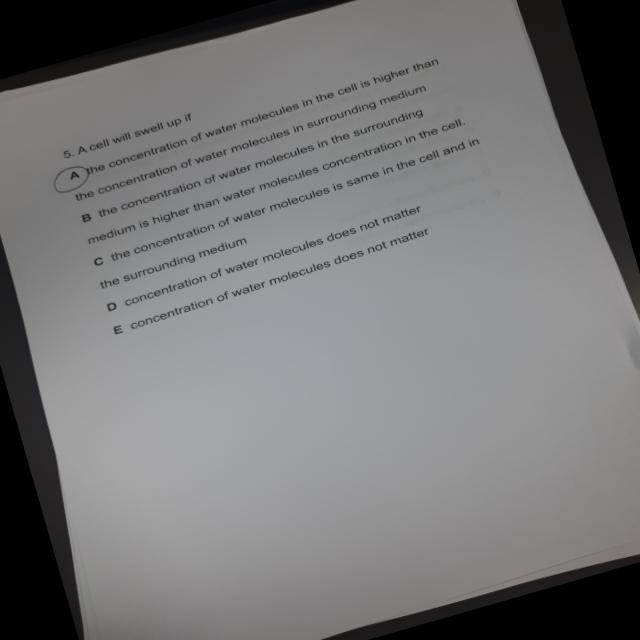A: (47, 160, 100, 199)
